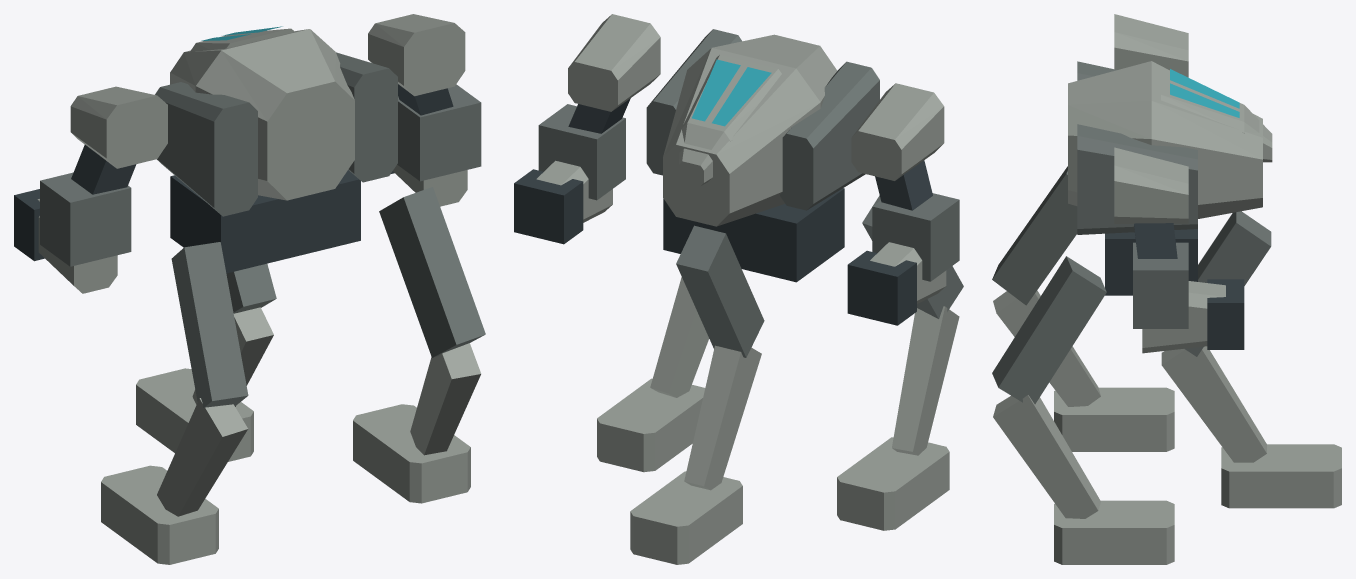
Rendered from fallback-tripod-light.glb.
3 renders of one model, left to right at view 1: azimuth 30°, elevation 25°; view 2: azimuth 150°, elevation 25°; view 3: azimuth 270°, elevation 25°, orthographic. The views are drawn at different scales.
Visible parts, largest first — view 1: LT, pelvis, RL, CT, LL, LA, RT, RL-foot, LL-foot, RA, LA@elbow, RA@elbow (+9 smaller); view 2: LT, pelvis, LA, RA, LL-foot, CL-foot, RL-foot, CL, HD, CL-shin, LL-shin, RT (+9 smaller); view 3: RT, RL, CL-foot, RL-foot, LL-foot, RA, RL-shin, CL-shin, LL, RA@elbow, CL, LA (+7 smaller).
Boxes of the visible parts, x1,y1,x2,y2 form: LT: (155, 46, 284, 216); pelvis: (170, 170, 360, 273); RL: (379, 187, 485, 357); CT: (179, 33, 337, 200); LL: (171, 242, 248, 408); LA: (70, 86, 167, 194); RT: (289, 29, 397, 184); RL-foot: (353, 404, 470, 503); LL-foot: (101, 465, 218, 564); RA: (368, 14, 465, 115); LA@elbow: (40, 172, 131, 266); RA@elbow: (397, 84, 481, 181); LT: (721, 48, 879, 221); pelvis: (663, 188, 844, 282); LA: (851, 83, 944, 210); RA: (568, 14, 660, 133); LL-foot: (837, 437, 949, 530); CL-foot: (630, 471, 742, 564); RL-foot: (597, 378, 705, 472); CL: (676, 225, 764, 357); HD: (679, 54, 781, 186); CL-shin: (684, 345, 761, 490); LL-shin: (892, 306, 959, 455); RT: (646, 29, 765, 208); RT: (1068, 93, 1262, 234); RL: (992, 256, 1106, 404); CL-foot: (1221, 444, 1341, 508); RL-foot: (1054, 500, 1174, 564); LL-foot: (1054, 387, 1174, 451); RA: (1114, 147, 1188, 258); RL-shin: (993, 395, 1100, 518); CL-shin: (1161, 346, 1266, 462); LL: (992, 166, 1077, 305); RA@elbow: (1133, 242, 1188, 328); CL: (1184, 211, 1271, 356); LA: (1114, 14, 1188, 77).
Bounding box in the file's own units: 44.65 × 46.72 × 35.8.
